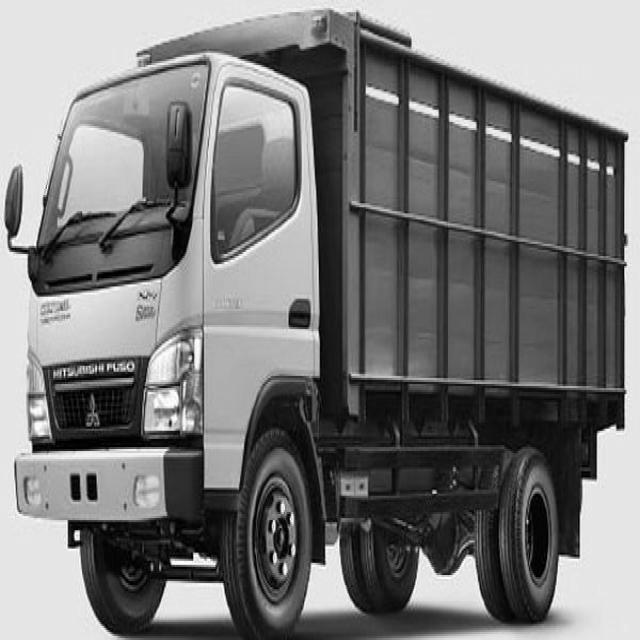truck: (6, 11, 367, 590)
